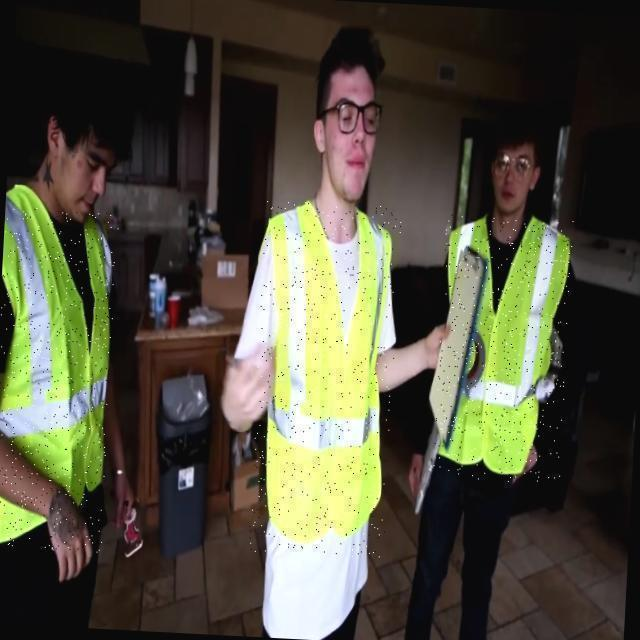no-helmet: (41, 59, 134, 173), (319, 29, 390, 147), (491, 113, 549, 189)
vest: (248, 199, 402, 559), (0, 206, 119, 552), (433, 213, 574, 485)
